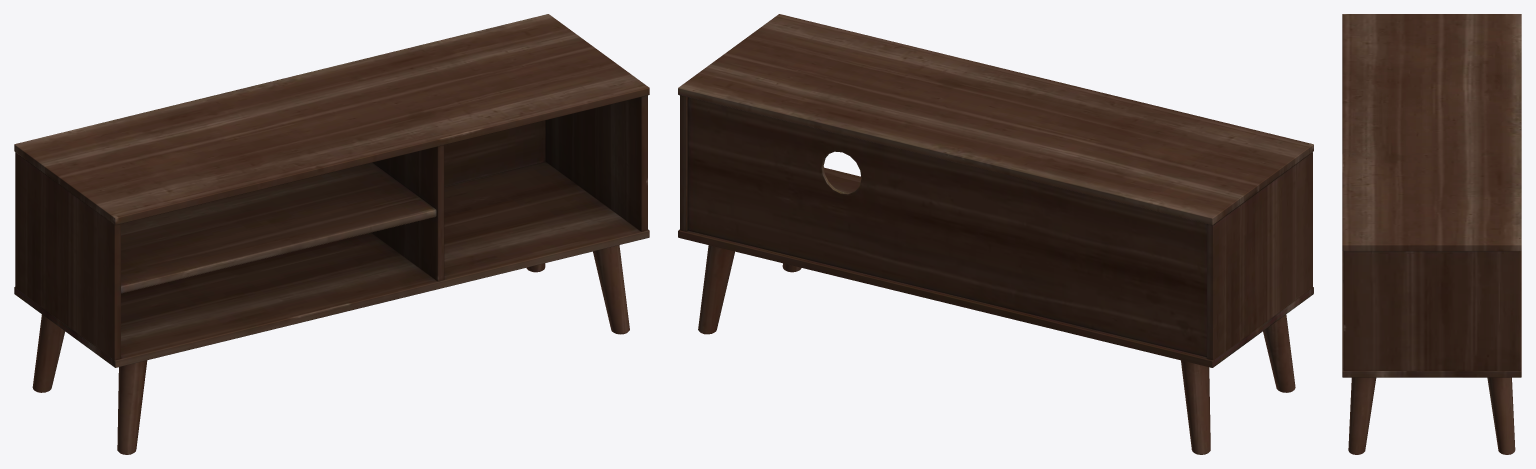
Rendered from TVStand.glb.
The picture shows the model from 3 angles, left to right: view 1: azimuth 30°, elevation 25°; view 2: azimuth 150°, elevation 25°; view 3: azimuth 270°, elevation 25°; orthographic projection. The views are drawn at different scales.
Visible parts, largest first — view 1: TVstand_TVStand_mat_0; view 2: TVstand_TVStand_mat_0; view 3: TVstand_TVStand_mat_0.
Part boxes in pixels (left/top/right/bottom): TVstand_TVStand_mat_0: left=14, top=14, right=649, bottom=454; TVstand_TVStand_mat_0: left=678, top=14, right=1313, bottom=454; TVstand_TVStand_mat_0: left=1342, top=14, right=1521, bottom=454.
Size of what is drawn, in the model's own units: 1.36 by 0.5938 by 0.4467.
1 material, 1 textured.
